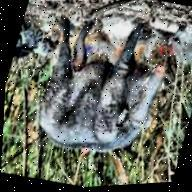boar: (6, 0, 186, 184)
